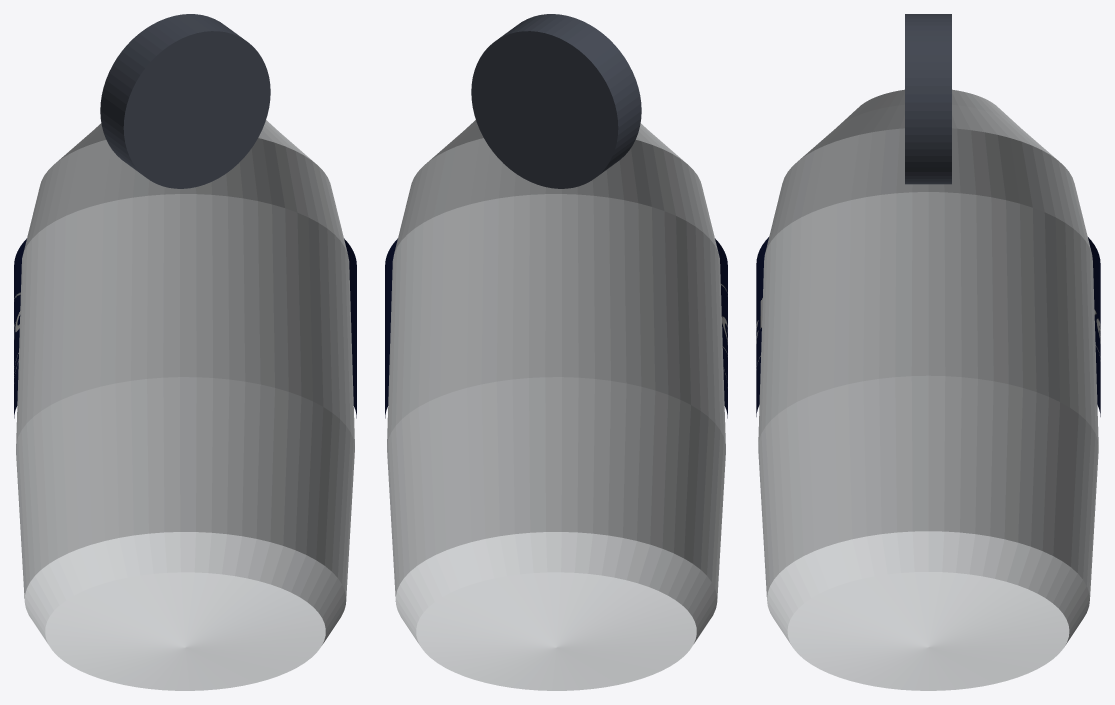
File: clear-wave.glb
The picture shows the model from 3 angles, left to right: view 1: azimuth 30°, elevation 25°; view 2: azimuth 150°, elevation 25°; view 3: azimuth 270°, elevation 25°; orthographic projection.
Parts seen in each view (by area): view 1: g0, g1, g2; view 2: g0, g1, g2; view 3: g0, g1, g2.
Boxes of the visible parts, bbox=[...] form: g0: bbox=[16, 120, 354, 690]; g1: bbox=[100, 14, 270, 188]; g2: bbox=[14, 238, 356, 418]; g0: bbox=[387, 120, 725, 690]; g1: bbox=[471, 14, 641, 188]; g2: bbox=[385, 238, 727, 418]; g0: bbox=[758, 89, 1098, 690]; g1: bbox=[905, 14, 951, 184]; g2: bbox=[756, 237, 1100, 416].
Size of the model in its own units: 1.17 by 2.35 by 1.17.
Materials: 3 (1 with a texture image).
